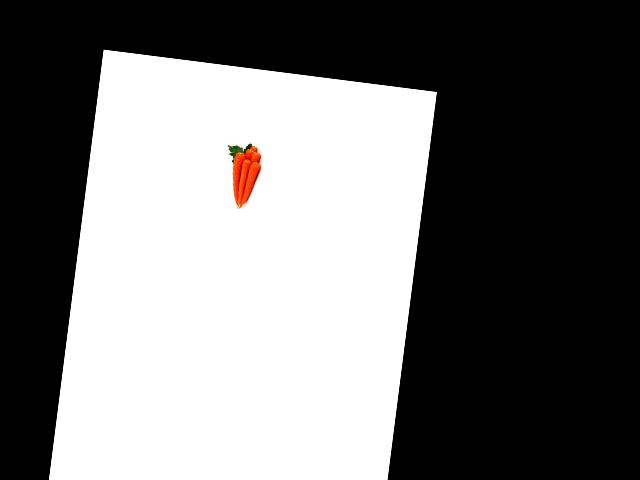carrot: (249, 143, 258, 153)
